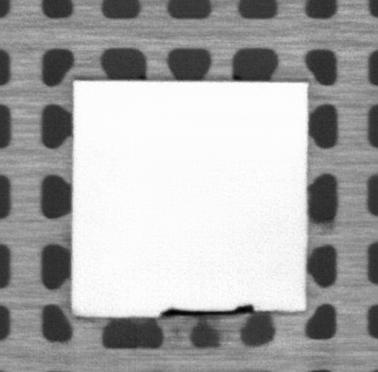DIE_BROKEN: (163, 303, 255, 316)
